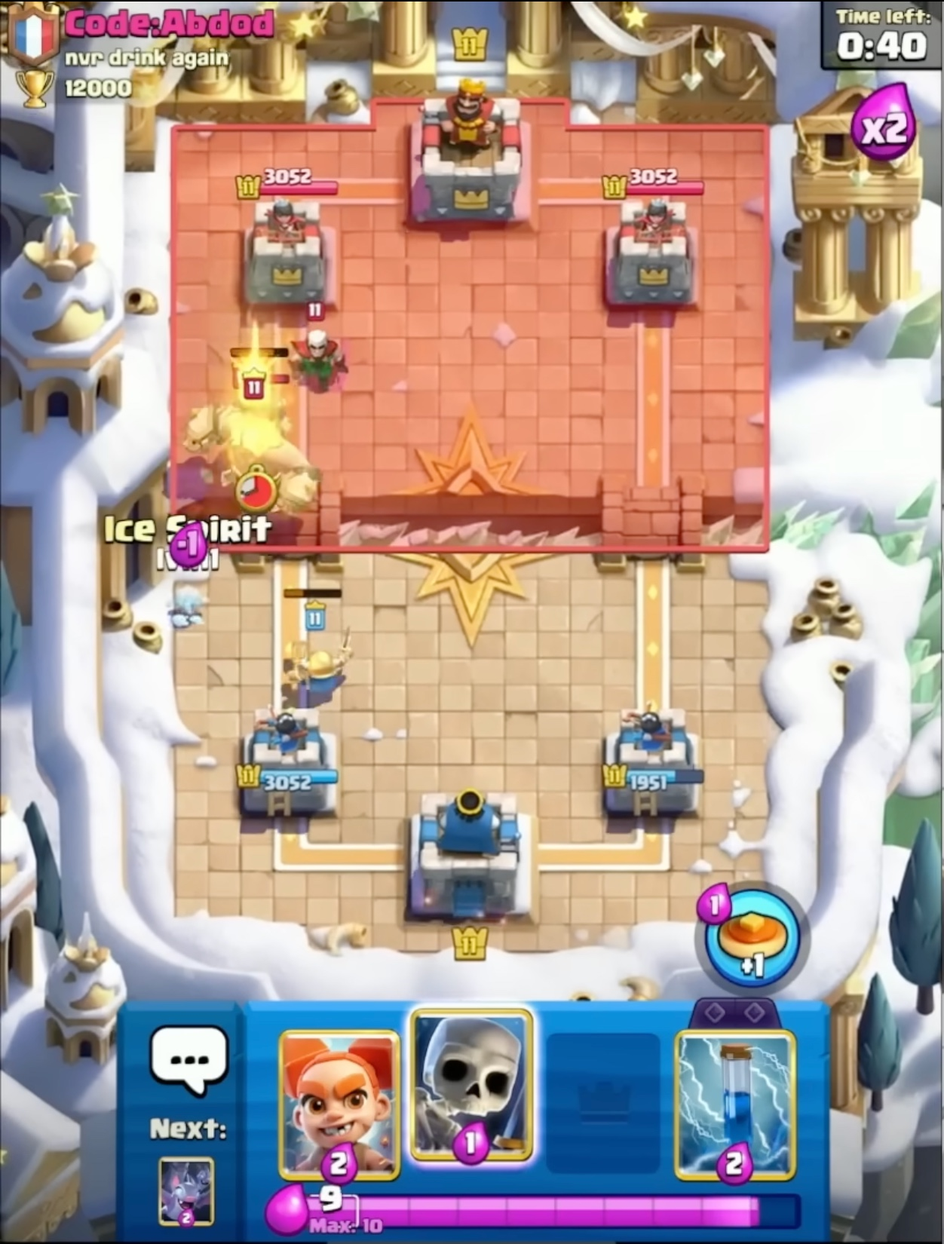bats: (176, 371, 304, 498)
hero-giant: (175, 378, 322, 547)
hero-mini-pekka: (181, 369, 323, 549)
magic-archer: (279, 297, 353, 393)
